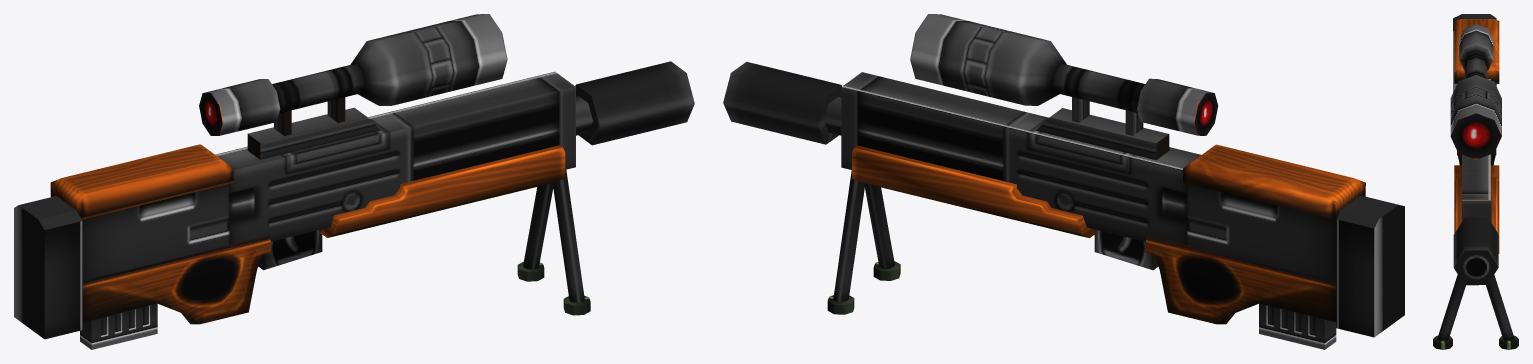
Rendered from sniper wa2000 lv3.FBX.
3 views of the same model, side by side, from view 1: azimuth 30°, elevation 25°; view 2: azimuth 150°, elevation 25°; view 3: azimuth 270°, elevation 25° (orthographic). The views are drawn at different scales.
Parts seen in each view (by area): view 1: Object110; view 2: Object110; view 3: Object110.
Part boxes in pixels (bbox=[...]): Object110: bbox=[14, 14, 694, 349]; Object110: bbox=[723, 14, 1404, 349]; Object110: bbox=[1433, 14, 1518, 349].
Bounding box in the file's own units: 102 × 44.31 × 16.38.
